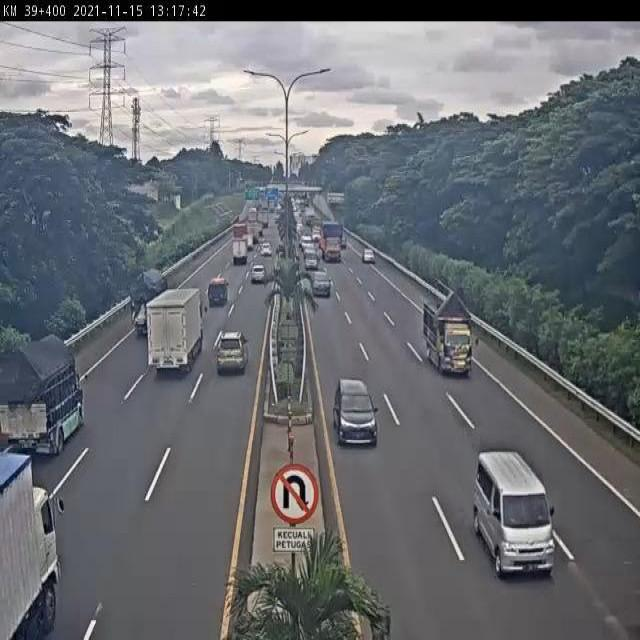bus-s-: (473, 451, 556, 581)
car: (333, 374, 378, 450), (216, 327, 250, 372), (311, 269, 333, 300), (249, 263, 267, 285), (304, 251, 320, 273), (260, 238, 273, 258), (362, 248, 377, 264)
truck-m-: (2, 452, 63, 640), (0, 335, 82, 452), (145, 284, 205, 379), (423, 288, 475, 381), (129, 258, 178, 346), (320, 218, 343, 262), (231, 236, 250, 268)
truck-s-: (208, 276, 231, 308)
